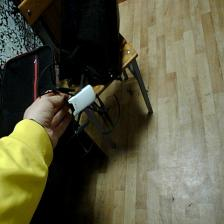drone: (38, 56, 125, 153)
